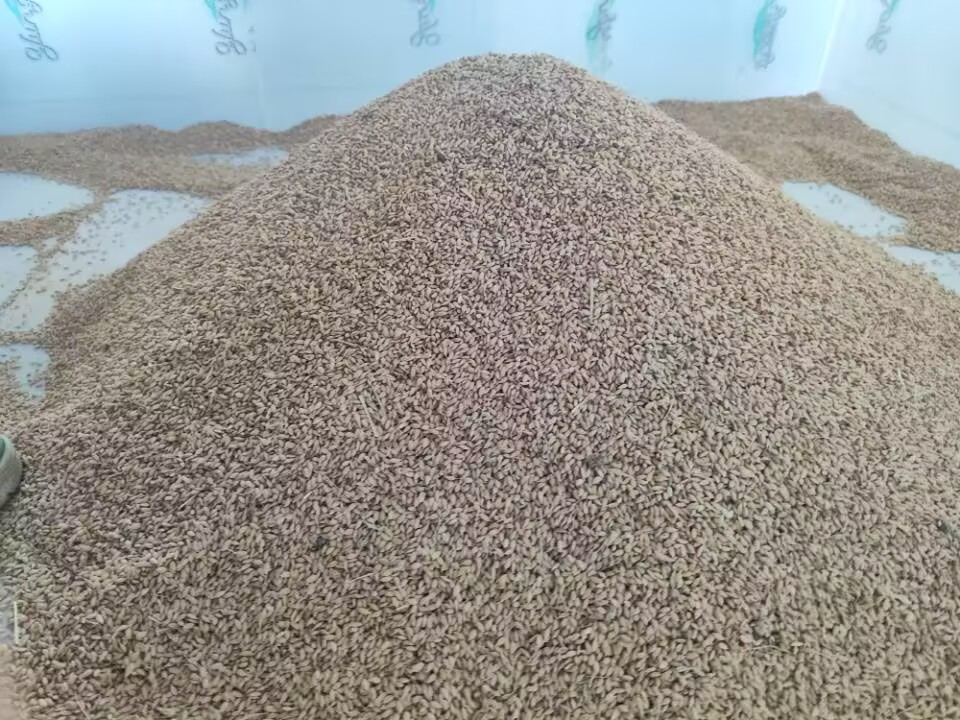Grain: (54, 38, 908, 625)
